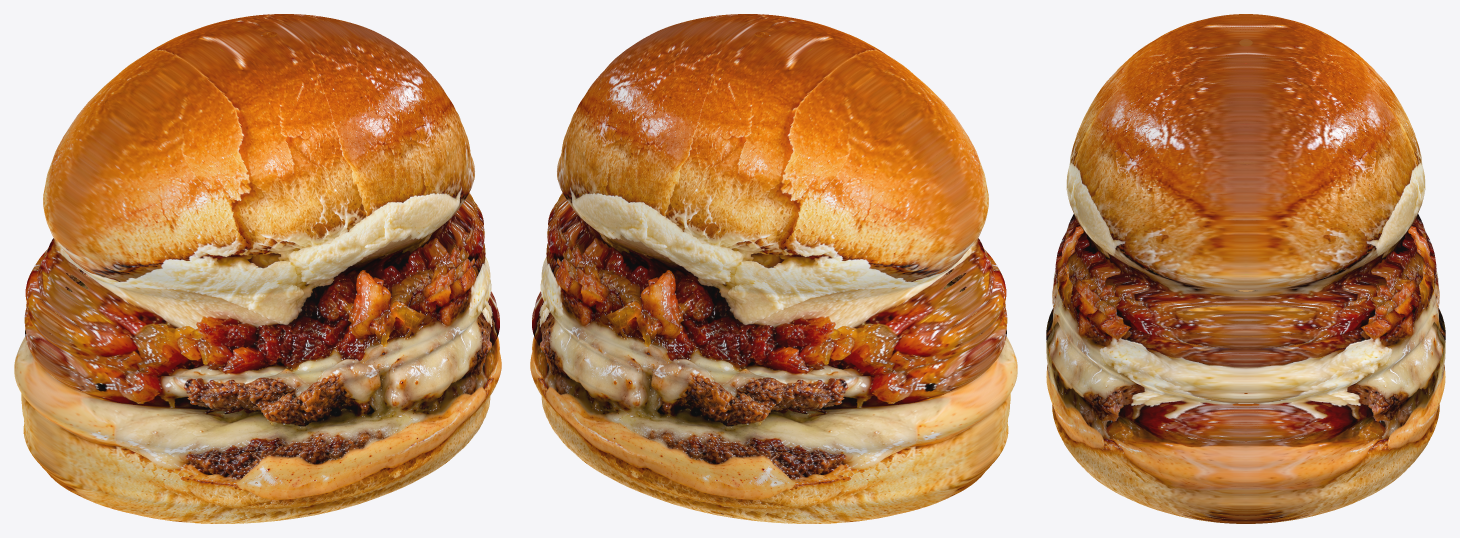
Rendered from jack-bacon.glb.
3 renders of one model, left to right at view 1: azimuth 30°, elevation 25°; view 2: azimuth 150°, elevation 25°; view 3: azimuth 270°, elevation 25°, orthographic. The views are drawn at different scales.
Visible parts, largest first — view 1: jack-bacon; view 2: jack-bacon; view 3: jack-bacon.
Part boxes in pixels (x1,y1,x2,y2): jack-bacon: [14, 14, 501, 523]; jack-bacon: [530, 14, 1017, 523]; jack-bacon: [1046, 14, 1445, 523].
Bounding box in the file's own units: 2 × 1.9 × 1.6.
Materials: 1 (1 with a texture image).
